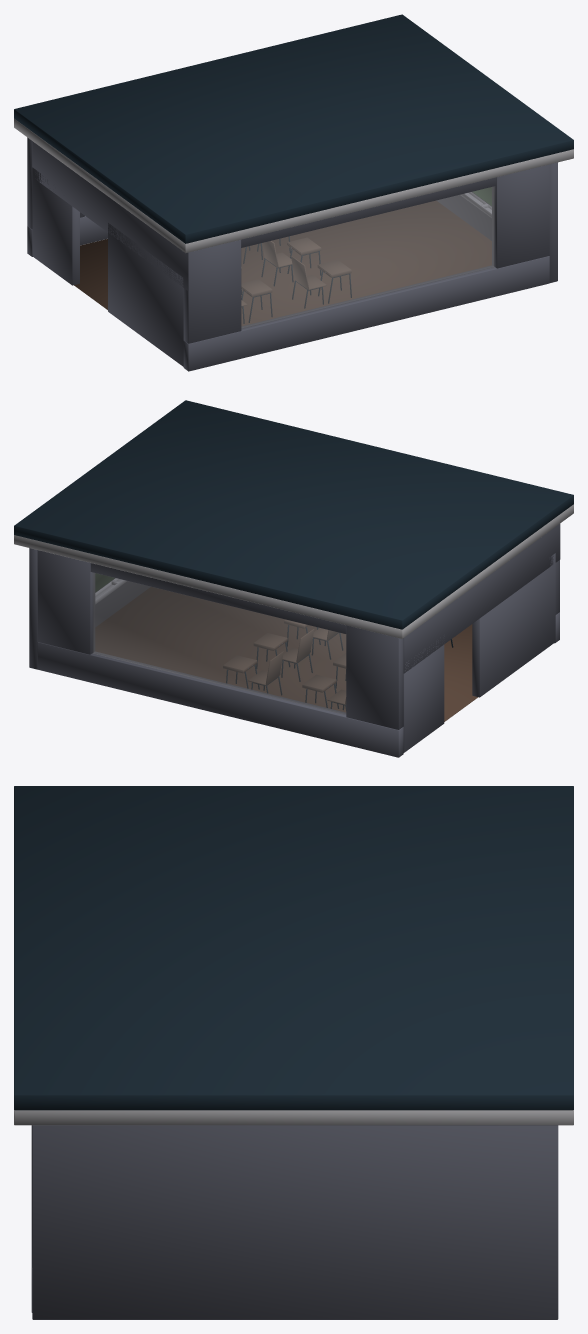
Rendered from Set_Classroom.glb.
The picture shows the model from 3 angles, top to bottom: view 1: azimuth 30°, elevation 25°; view 2: azimuth 150°, elevation 25°; view 3: azimuth 270°, elevation 25°; orthographic projection. The views are drawn at different scales.
Visible parts, largest first — view 1: Set_Classroom; view 2: Set_Classroom; view 3: Set_Classroom.
Part boxes in pixels (bbox=[...]): Set_Classroom: bbox=[14, 14, 573, 371]; Set_Classroom: bbox=[14, 400, 573, 757]; Set_Classroom: bbox=[14, 786, 573, 1319].
Size of the model in its own units: 12.35 by 4.35 by 9.45.
